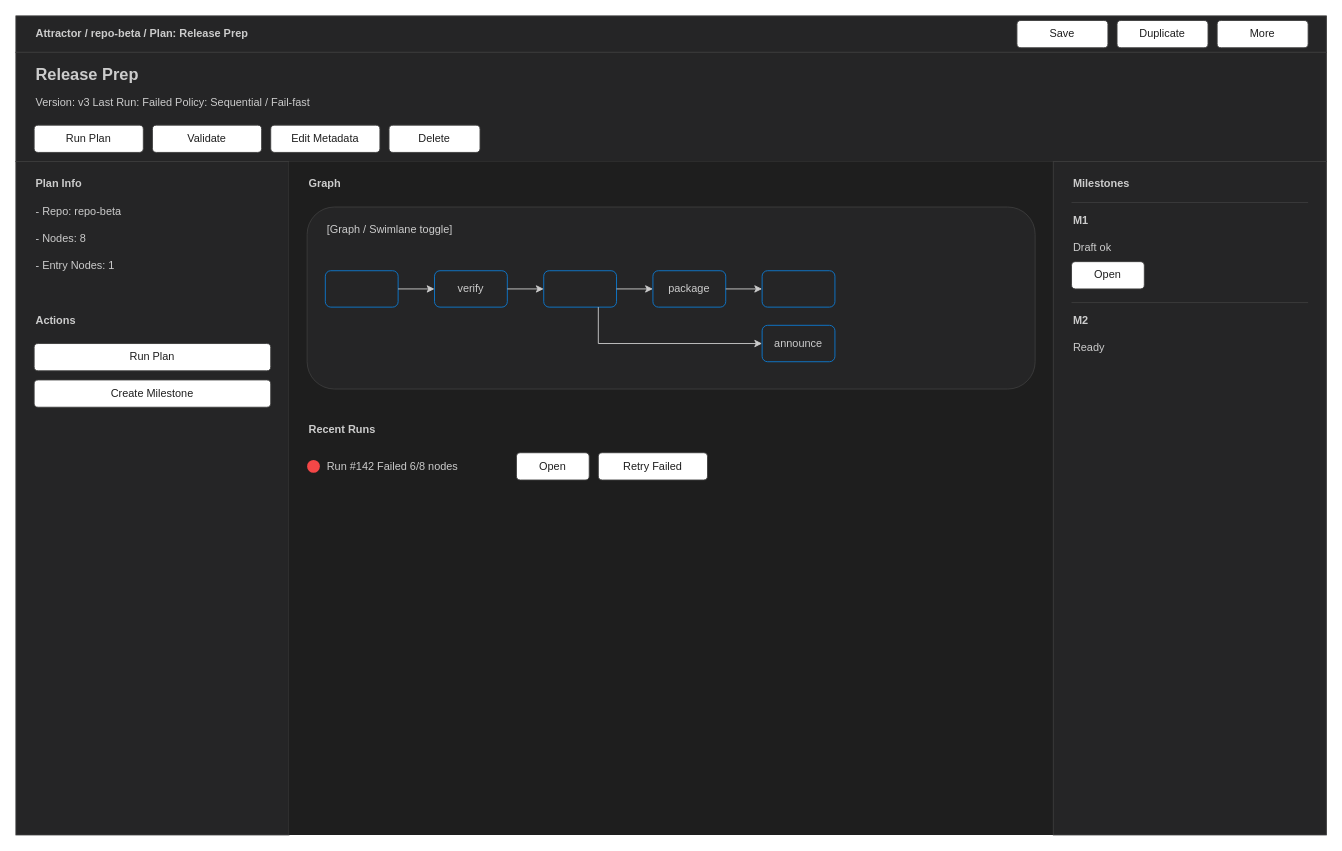
The diagram is 1342 pixels wide and 851 high, and some of its shapes have lost their labels. Here are the shapes that lost their labels. From the top down, the centre of each, then its label:
At pixel 361 288: "start".
At pixel 580 288: "docs".
At pixel 798 288: "publish".
